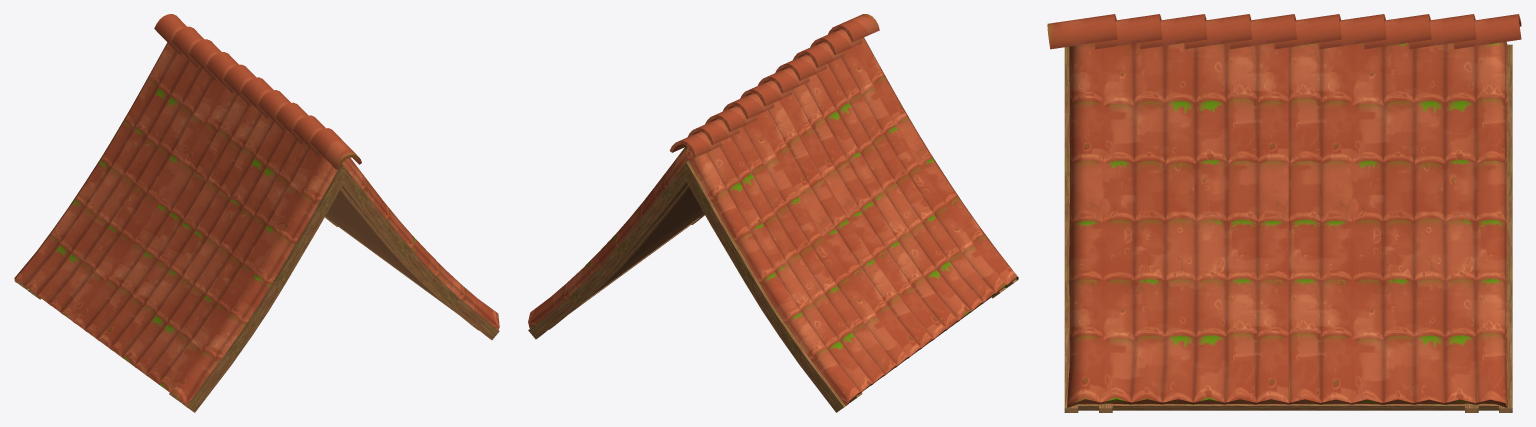
File: Roof_RoundTiles_6x6.glb
3 views of the same model, side by side, from view 1: azimuth 30°, elevation 25°; view 2: azimuth 150°, elevation 25°; view 3: azimuth 270°, elevation 25° (orthographic). The views are drawn at different scales.
Parts seen in each view (by area): view 1: Roof_RoundTiles_6x6; view 2: Roof_RoundTiles_6x6; view 3: Roof_RoundTiles_6x6.
Boxes of the visible parts, x1,y1,x2,y2 form: Roof_RoundTiles_6x6: (14, 14, 499, 412); Roof_RoundTiles_6x6: (528, 14, 1018, 412); Roof_RoundTiles_6x6: (1047, 14, 1521, 412).
Bounding box in the file's own units: 8.25 × 5.67 × 8.03.
2 materials, 2 textured.
